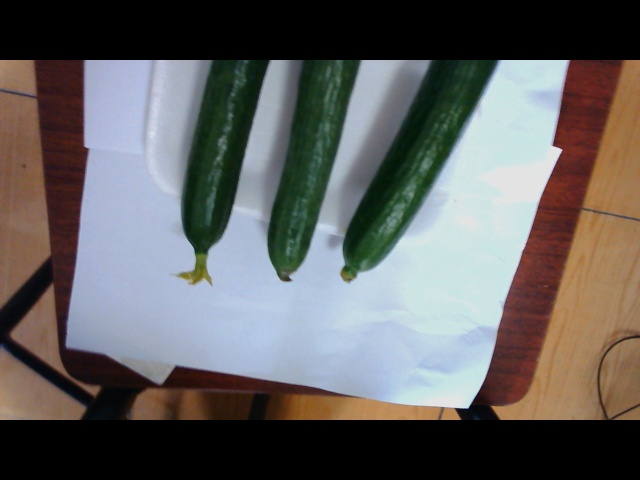cucumber: (346, 58, 500, 294), (183, 58, 270, 303), (277, 57, 357, 304)
